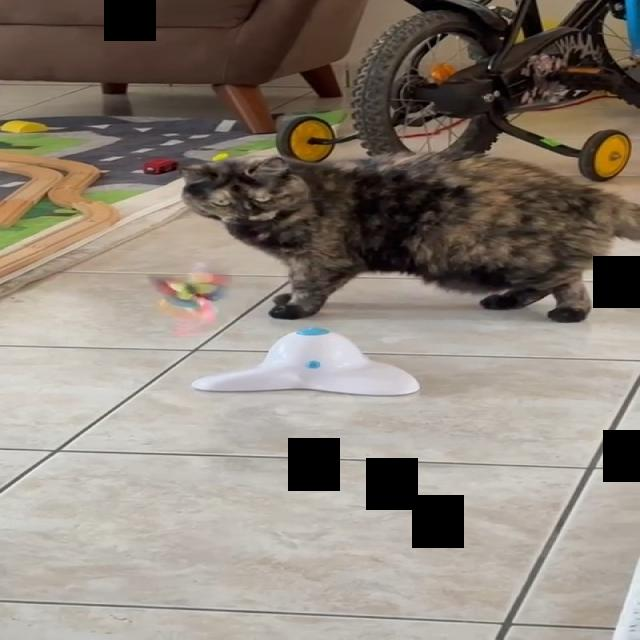authorized: (177, 150, 639, 322)
